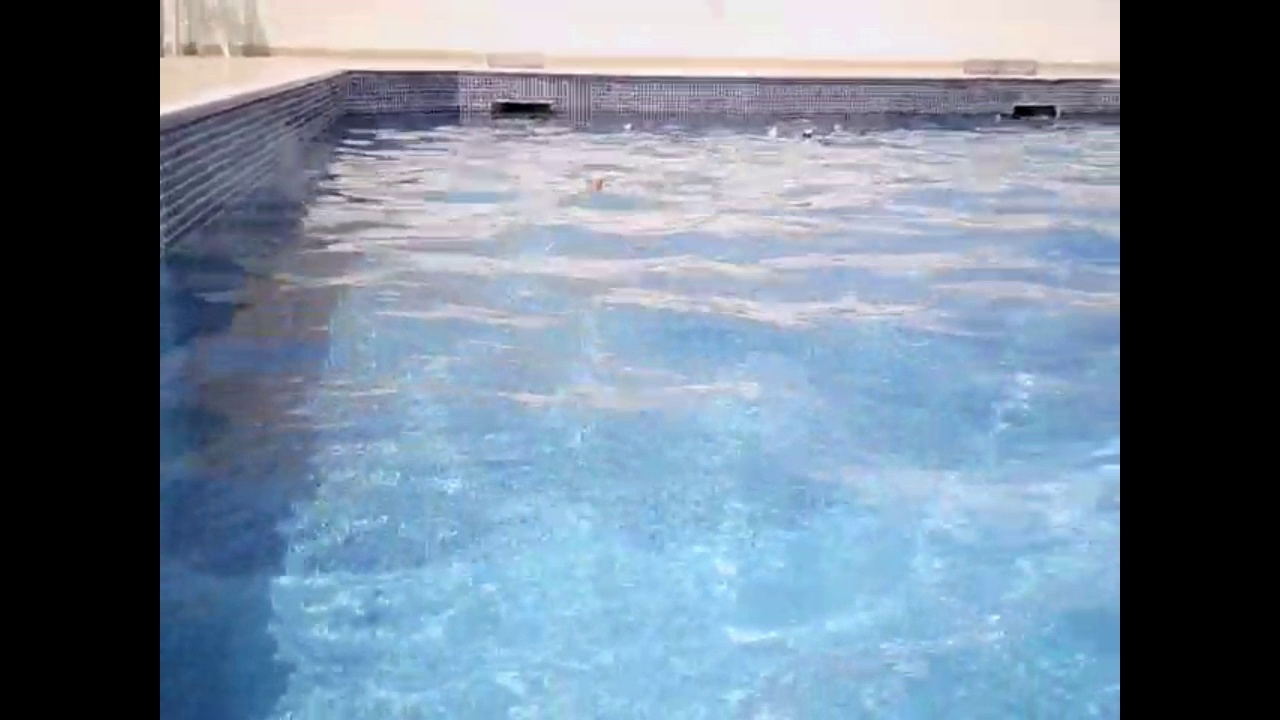debris: (582, 167, 607, 198), (824, 115, 851, 143), (795, 125, 819, 147), (620, 113, 638, 135), (762, 123, 781, 143)
